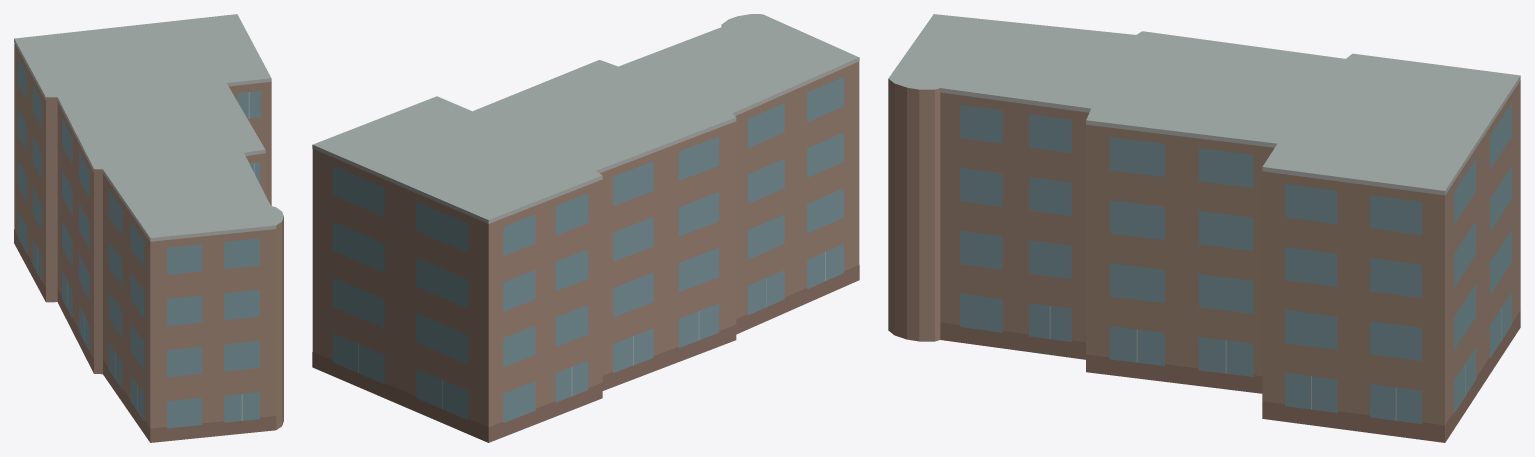
Rendered from survey-upis-32502911.glb.
3 views of the same model, side by side, from view 1: azimuth 30°, elevation 25°; view 2: azimuth 150°, elevation 25°; view 3: azimuth 270°, elevation 25° (orthographic). The views are drawn at different scales.
Visible parts, largest first — view 1: survey-upis-32502911.tmp; view 2: survey-upis-32502911.tmp; view 3: survey-upis-32502911.tmp.
Part boxes in pixels (left/top/right/bottom): survey-upis-32502911.tmp: left=14, top=14, right=283, bottom=442; survey-upis-32502911.tmp: left=312, top=14, right=859, bottom=442; survey-upis-32502911.tmp: left=888, top=14, right=1520, bottom=442.
Size of the model in its own units: 20.96 by 13.9 by 31.64.
